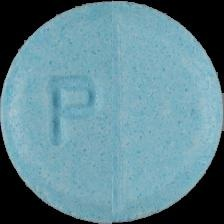68084-440: (0, 0, 224, 224)
